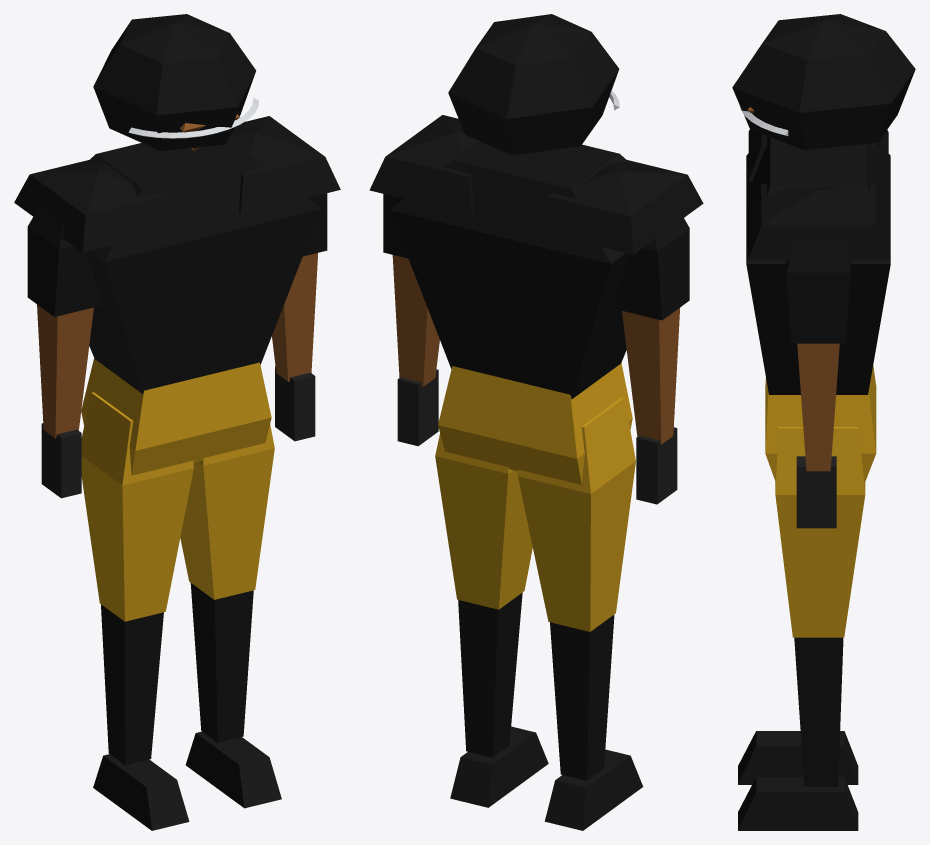
The picture shows the model from 3 angles, left to right: view 1: azimuth 30°, elevation 25°; view 2: azimuth 150°, elevation 25°; view 3: azimuth 270°, elevation 25°; orthographic projection. The views are drawn at different scales.
Visible parts, largest first — view 1: player_L1; view 2: player_L1; view 3: player_L1.
Boxes of the visible parts, x1,y1,x2,y2 form: player_L1: [14, 14, 340, 830]; player_L1: [369, 14, 703, 830]; player_L1: [732, 14, 915, 830].
Bounding box in the file's own units: 0.7077 × 1.89 × 0.4039.
